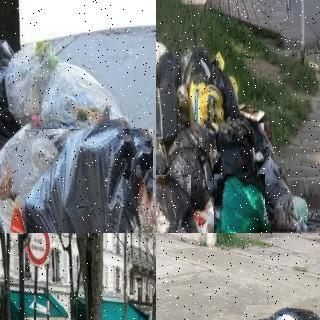Garbage: (14, 122, 156, 233), (210, 171, 269, 233), (254, 156, 297, 230), (164, 146, 214, 206), (215, 117, 253, 187), (156, 172, 195, 233), (208, 57, 240, 118), (243, 300, 320, 320), (183, 196, 216, 233), (156, 49, 181, 95), (156, 83, 176, 140)
